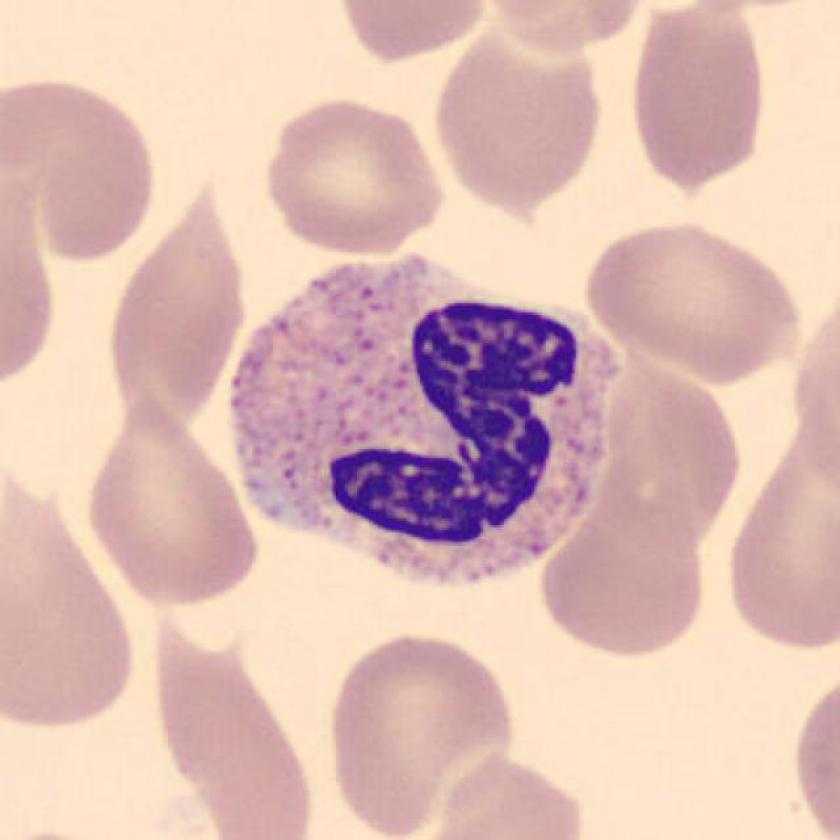neutrophil: (230, 258, 612, 576)
